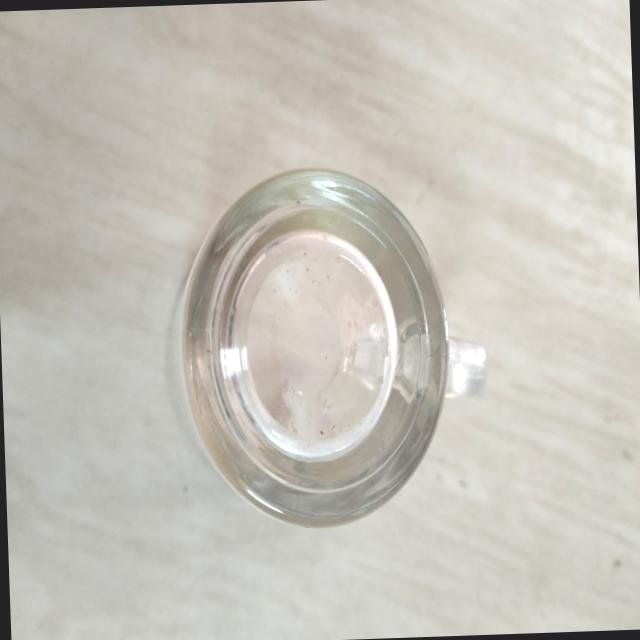glass-VX4N: (172, 160, 489, 533)
